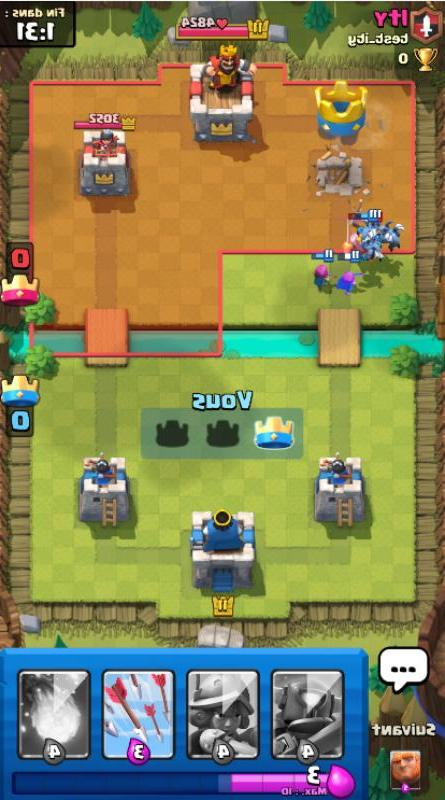archere: (335, 251, 365, 297), (311, 249, 338, 293)
chevalier: (342, 211, 383, 263)
gargouille: (355, 210, 379, 244), (377, 221, 403, 252), (360, 240, 384, 264)
